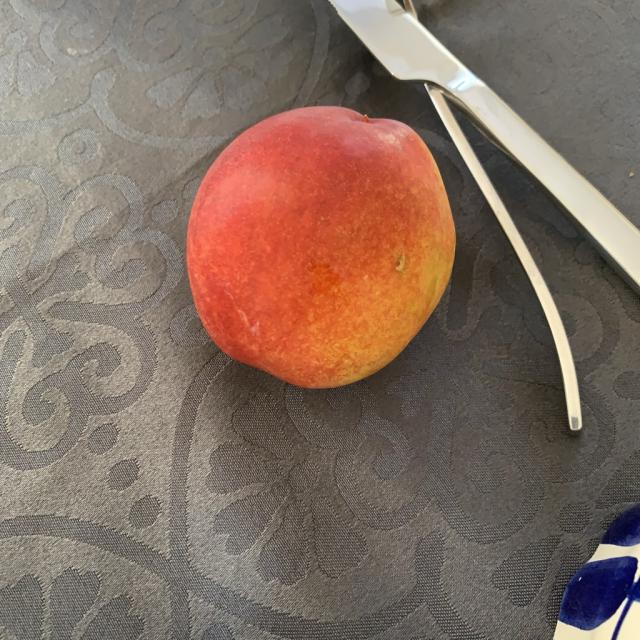peach: (187, 110, 452, 388)
